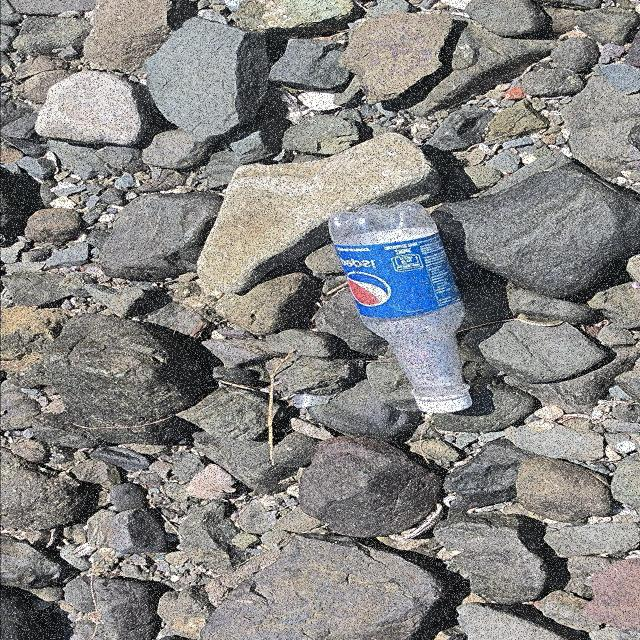plastic_waste: (328, 203, 474, 415)
